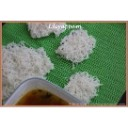idiyappam: (1, 42, 54, 88), (64, 68, 102, 103), (62, 27, 96, 62)
